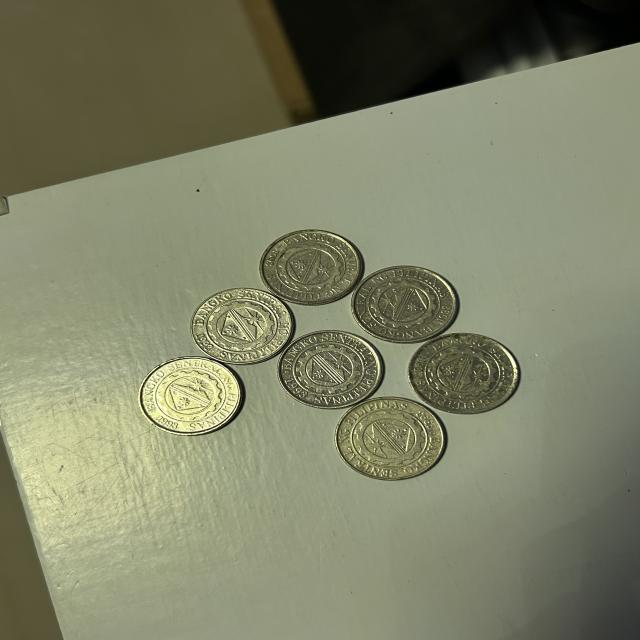1_Old_Back: (344, 410, 436, 469), (420, 343, 505, 404), (363, 276, 442, 335), (290, 339, 363, 400), (155, 367, 231, 422), (274, 239, 348, 293), (204, 300, 278, 350)
